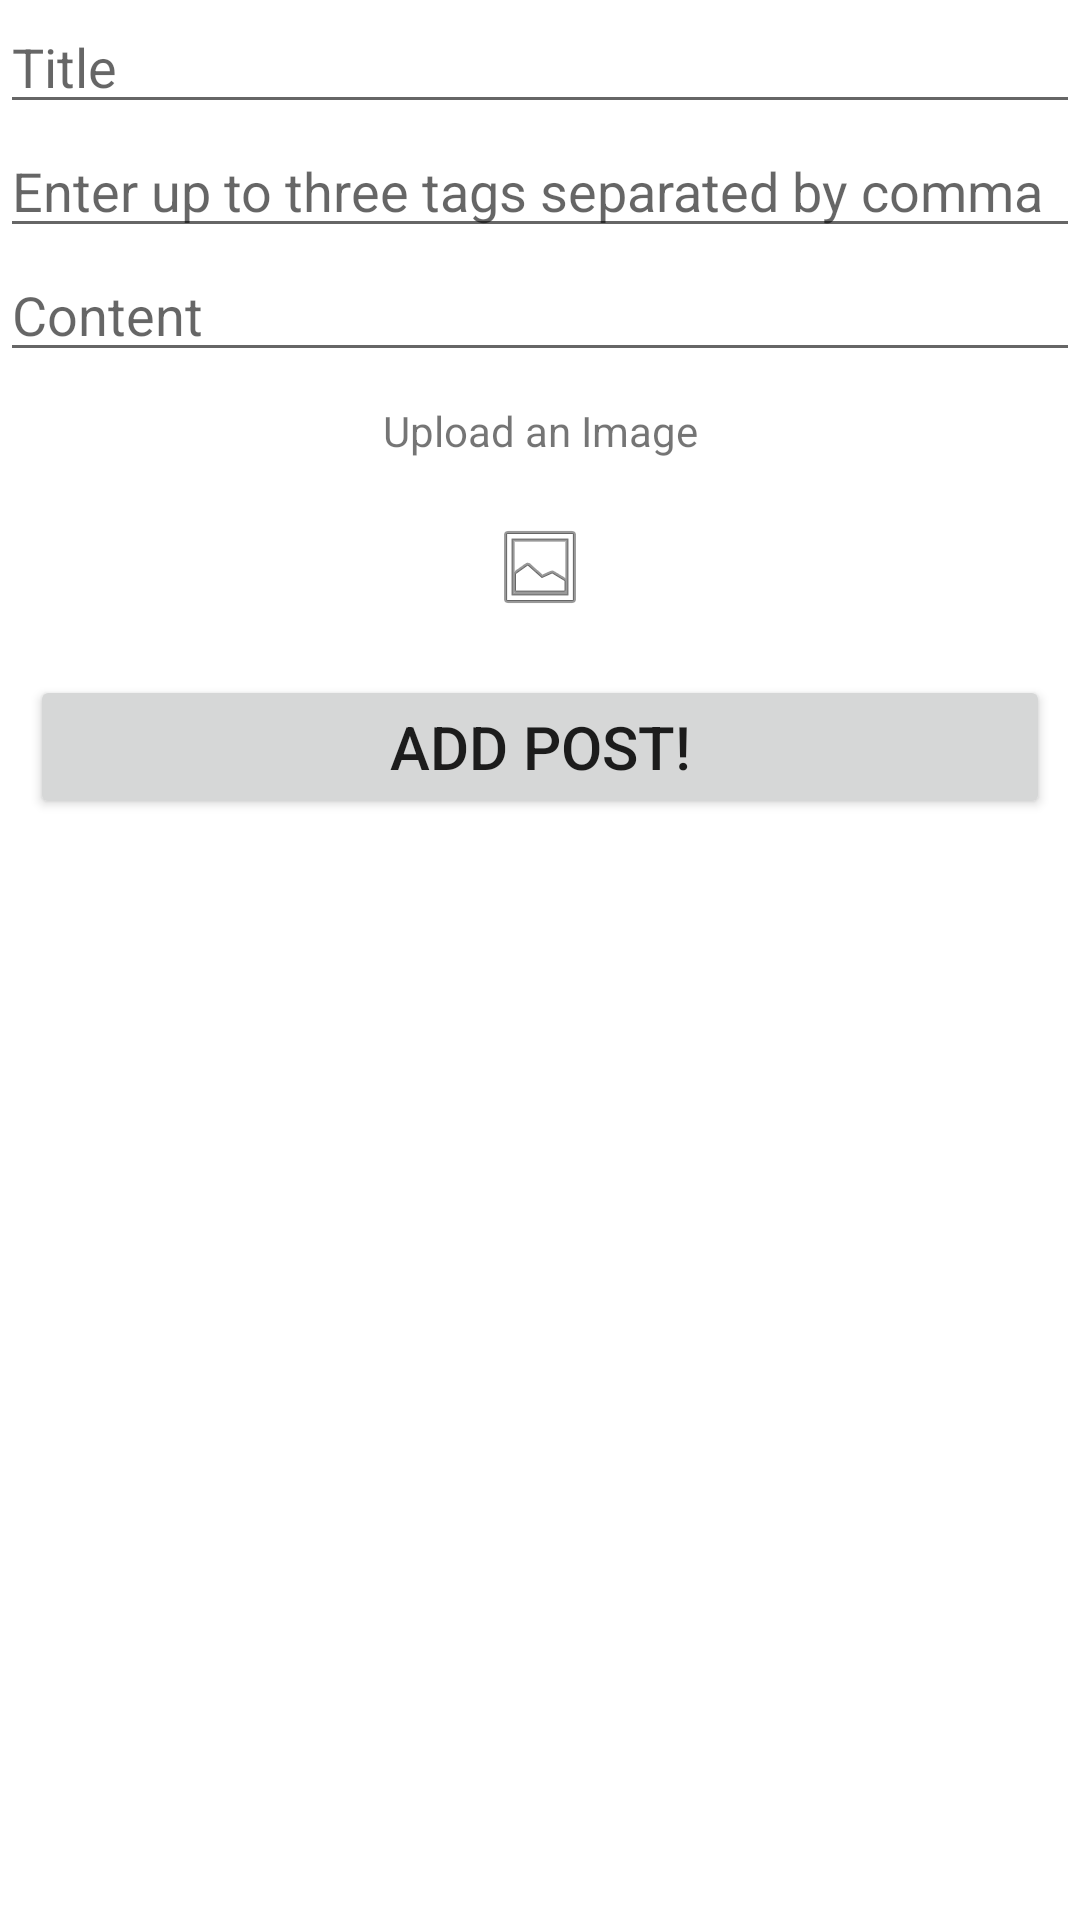

Named icons in this screenshot (1080 x 1920) and their bounding boxes, [left=x1, top=y1, right=x2, bottom=y2]:
gallery: [left=504, top=531, right=576, bottom=603]
